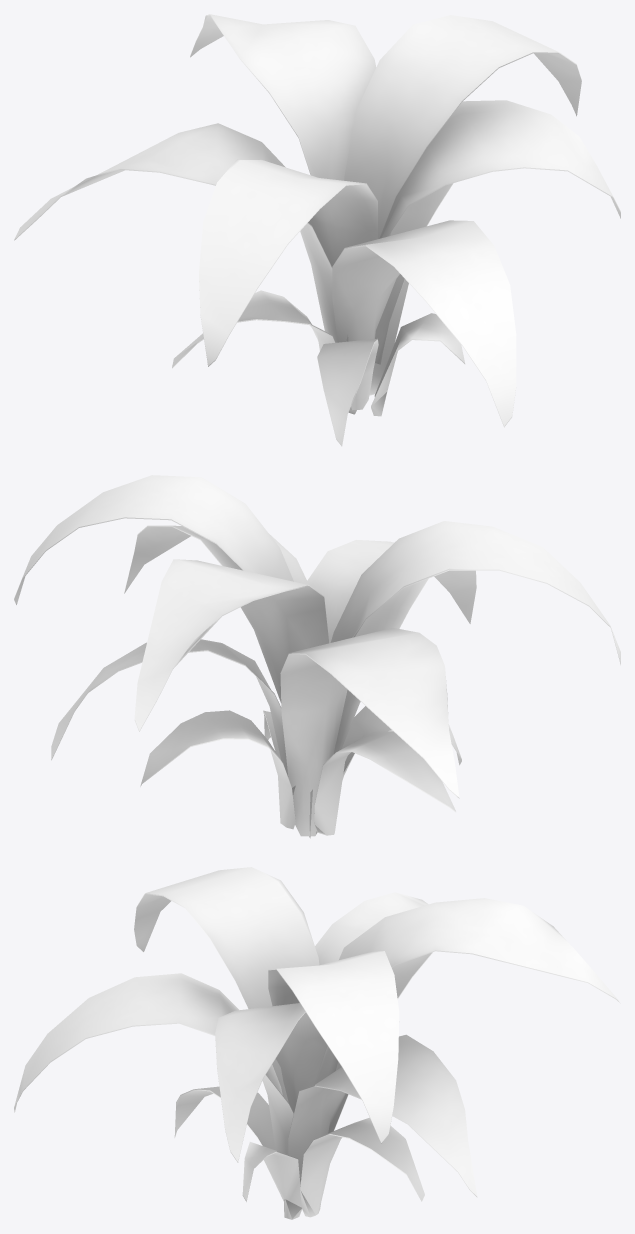
The model's file is Plant1.glb.
3 renders of one model, top to bottom at view 1: azimuth 30°, elevation 25°; view 2: azimuth 150°, elevation 25°; view 3: azimuth 270°, elevation 25°, orthographic. The views are drawn at different scales.
Parts seen in each view (by area): view 1: Plant1; view 2: Plant1; view 3: Plant1.
Part boxes in pixels (bbox=[...]): Plant1: bbox=[14, 14, 620, 446]; Plant1: bbox=[14, 475, 620, 838]; Plant1: bbox=[14, 867, 620, 1219].
Bounding box in the file's own units: 0.5856 × 0.3664 × 0.6533.
Materials: 1 (1 with a texture image).
